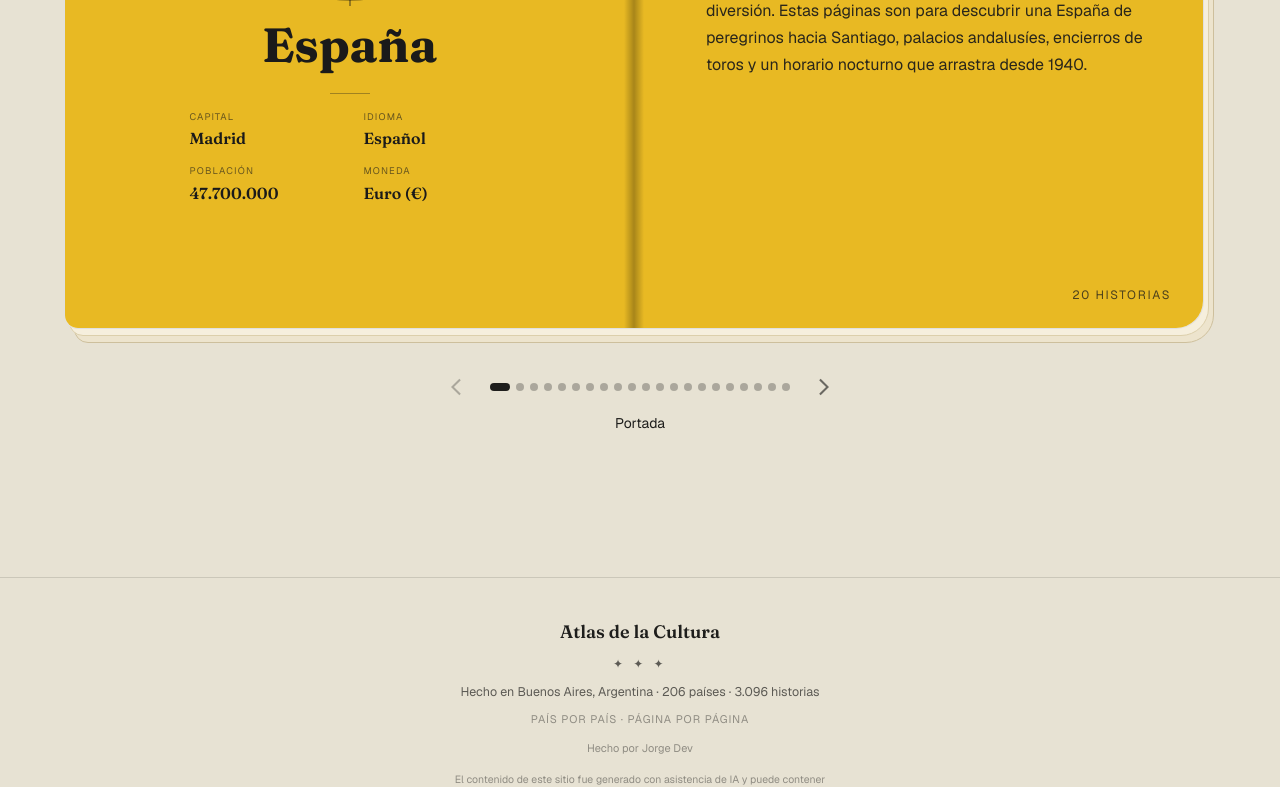
Test: Country page book carousel › opens on the cover and turns to the next page
The image size is (1280, 787).
(page scrolled)
Check: the text "Portada" is shown, box [615,414,665,432]
Click the button named "Siguiente" at (824, 387), box [806,369,842,405]
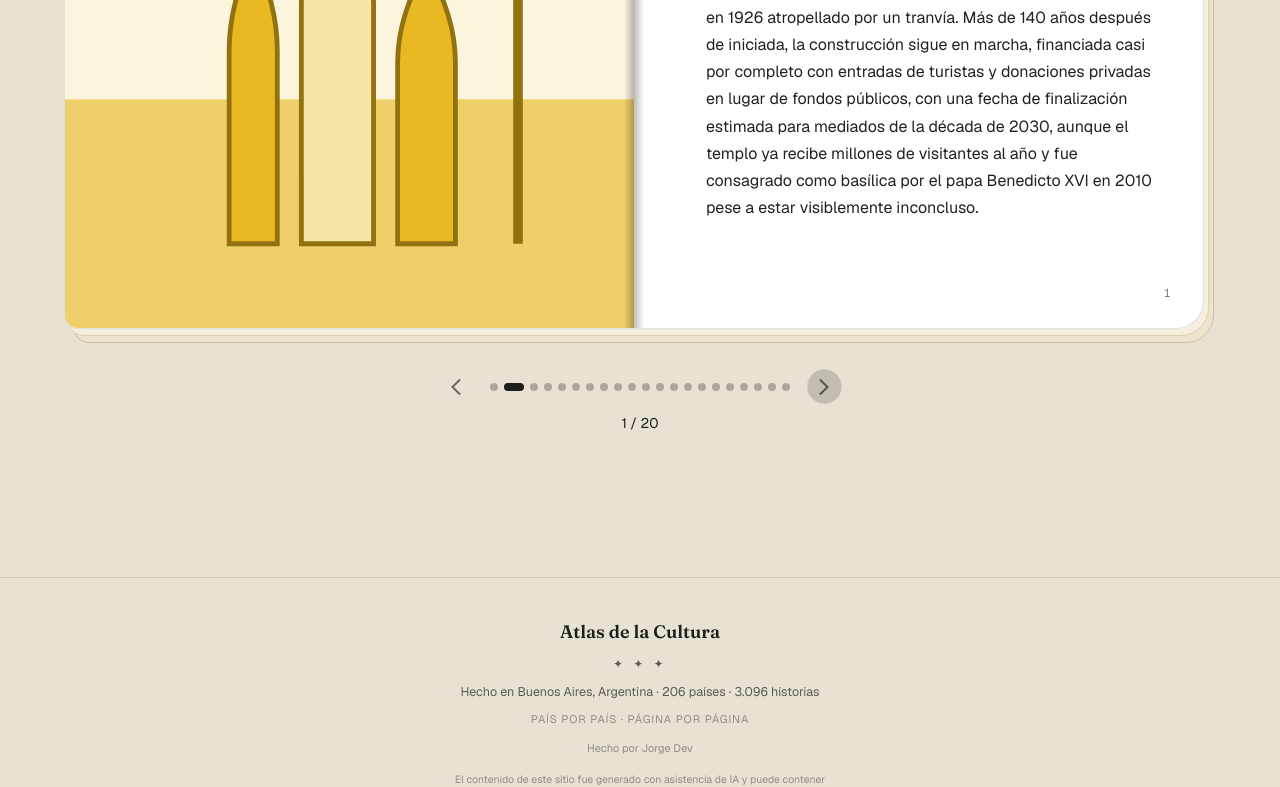
Check: the text "1 / 20" is shown, box [622,414,658,432]
